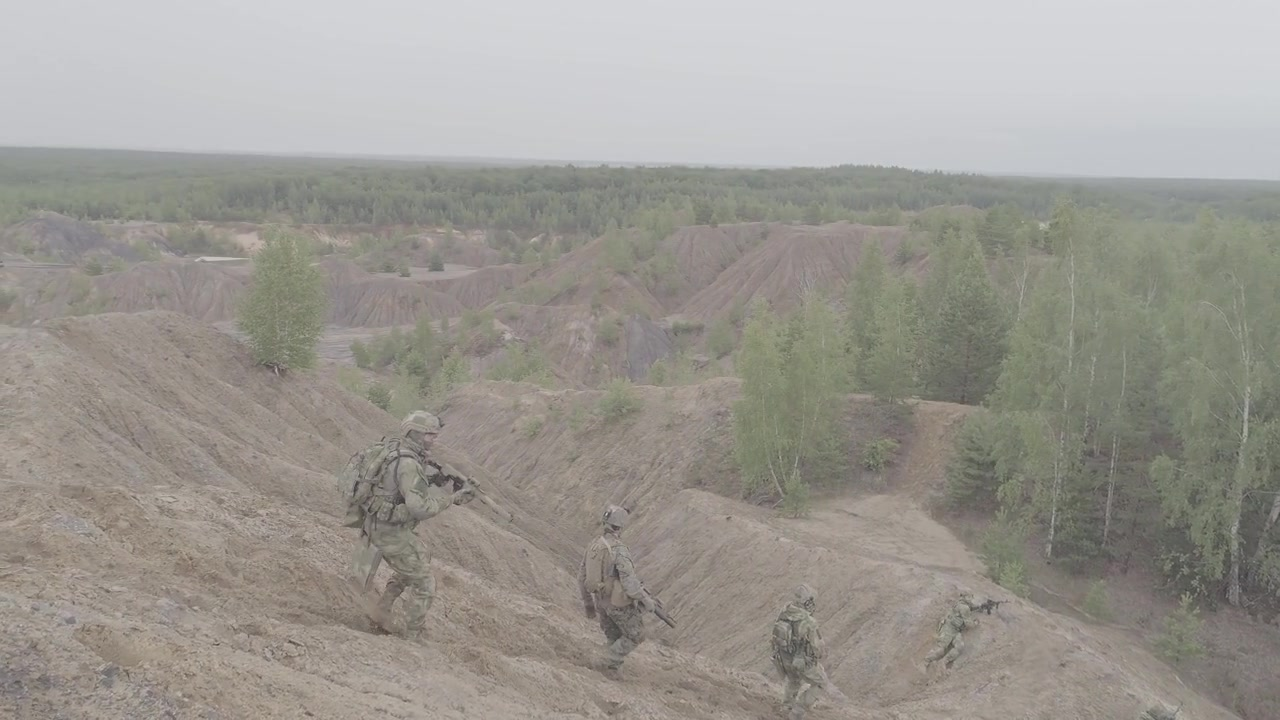person: (360, 405, 477, 645), (571, 500, 674, 680)
